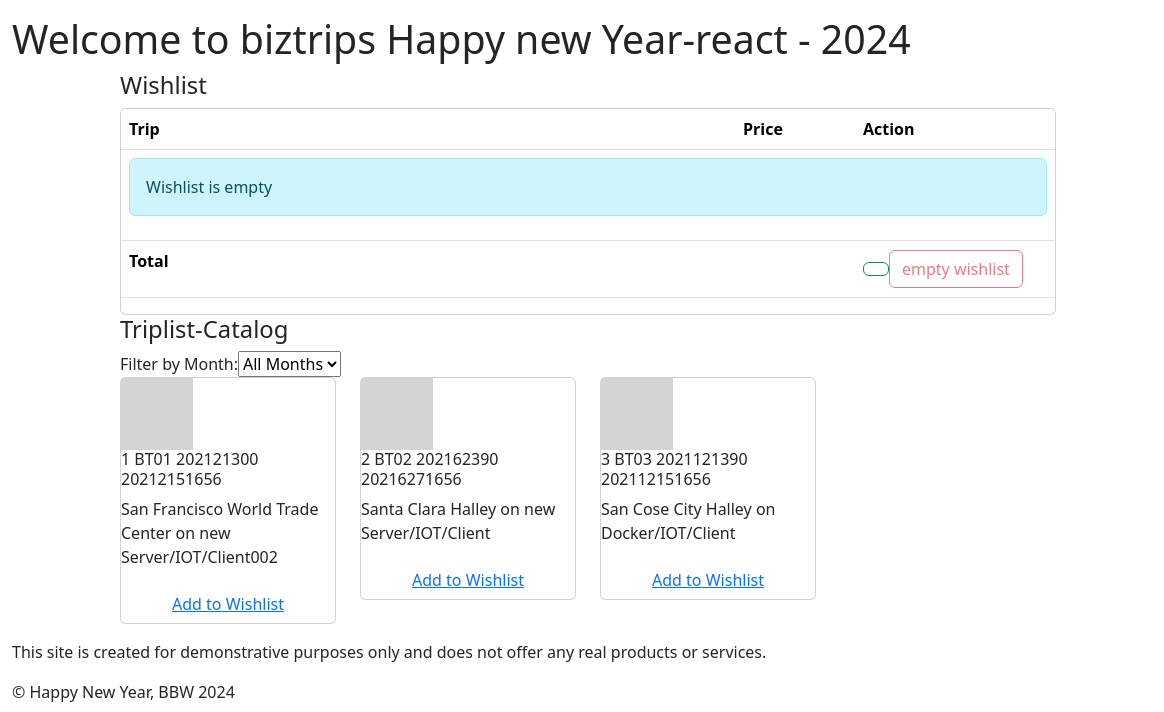
BizTrip E2E Tests › E2E-03: should clear all trips from wishlist
The width and height of the screenshot is (1164, 712).
(page scrolled)
expect the heading "Welcome to biztrips" is shown: met, box [12,12,911,66]
Click the button with class "btn-outline" below "BT01": (228, 604) [109,585,347,623]
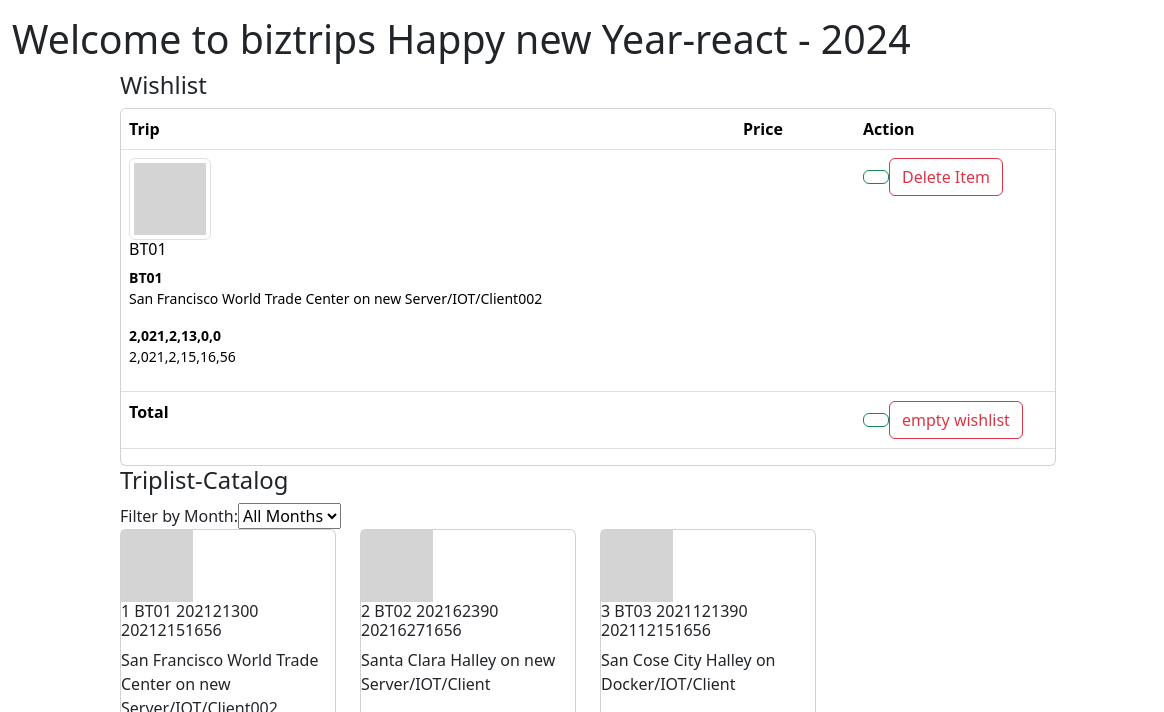
Scroll
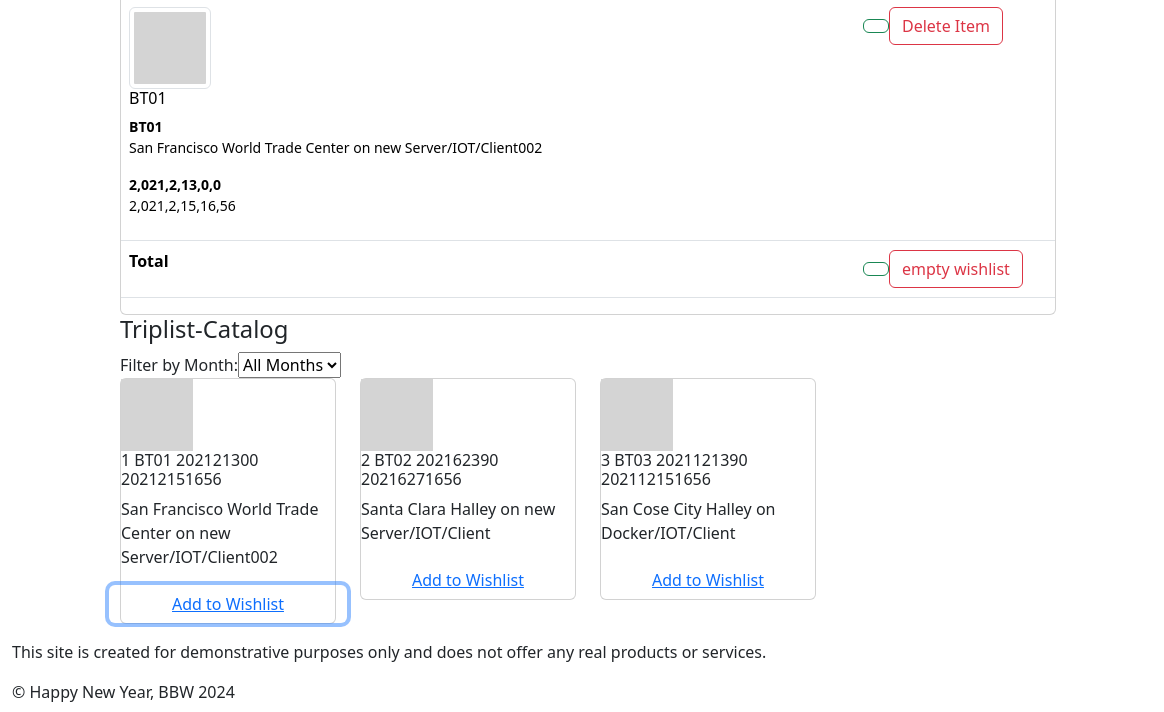
Click the button with class "btn-outline" below "27": (468, 580) [349,561,587,599]
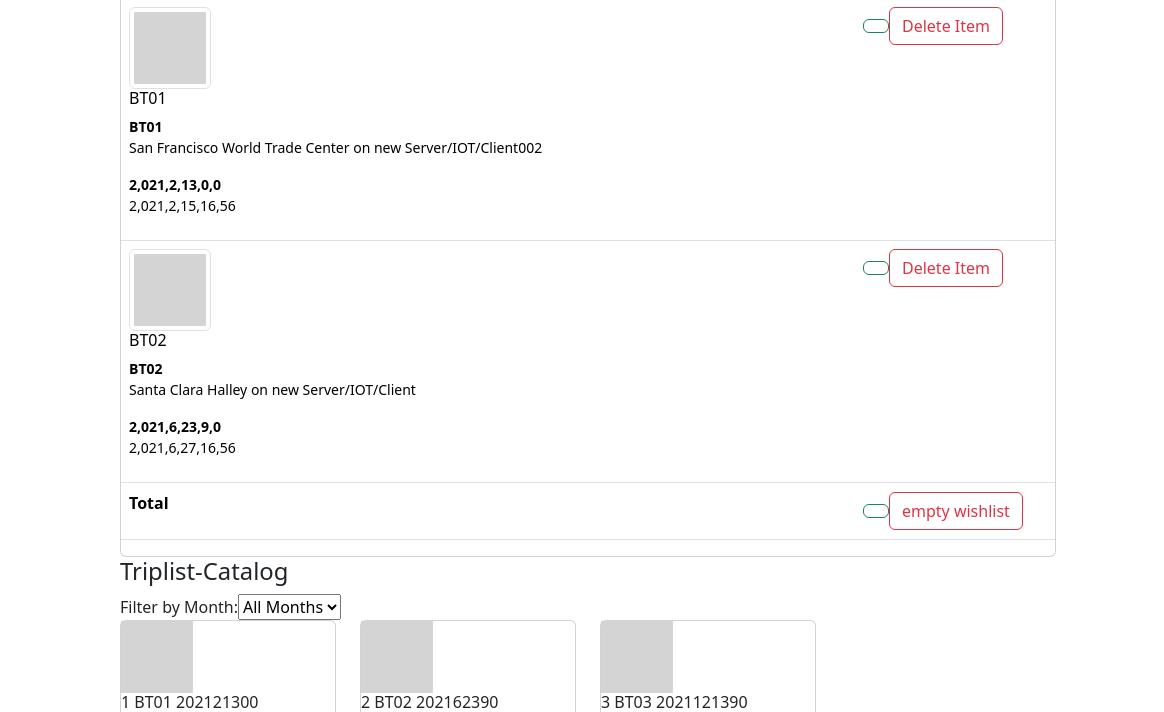
Scroll
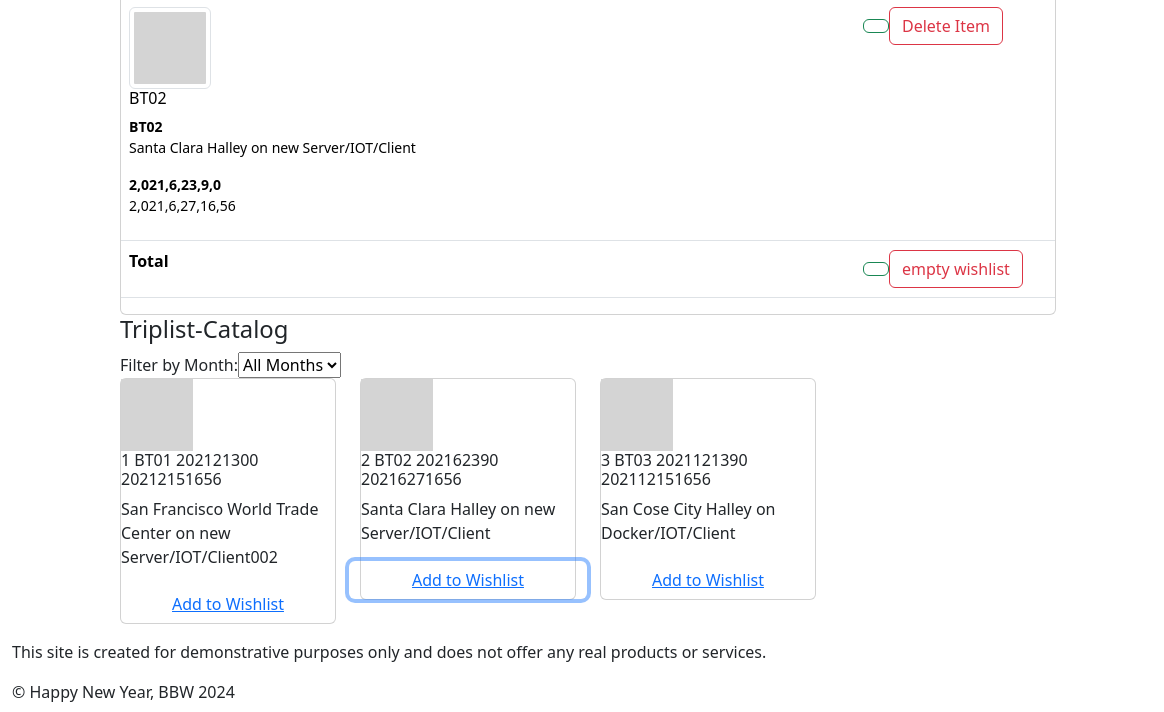
Click the button with class "btn-outline" below "BT03": (708, 580) [589,561,827,599]
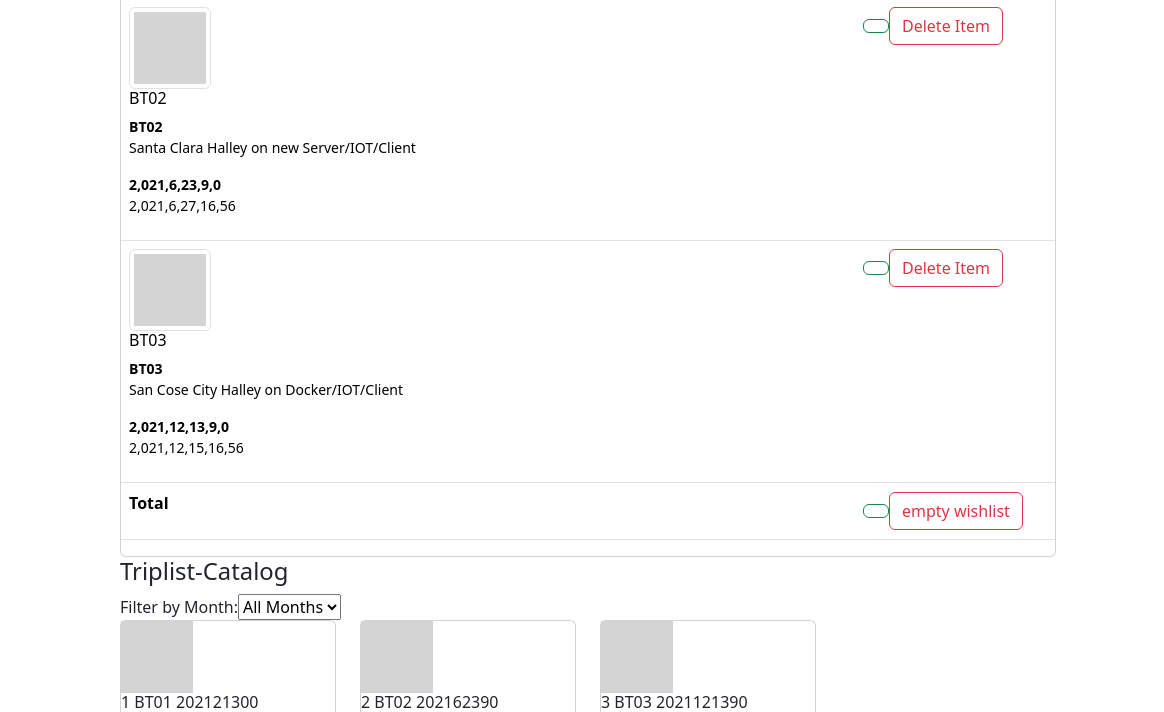
expect the text "empty wishlist" is enabled: met
expect the number of elements with class "media" is at least 1: met
Click the button "empty wishlist": (956, 511) [889,492,1023,530]
(page scrolled)
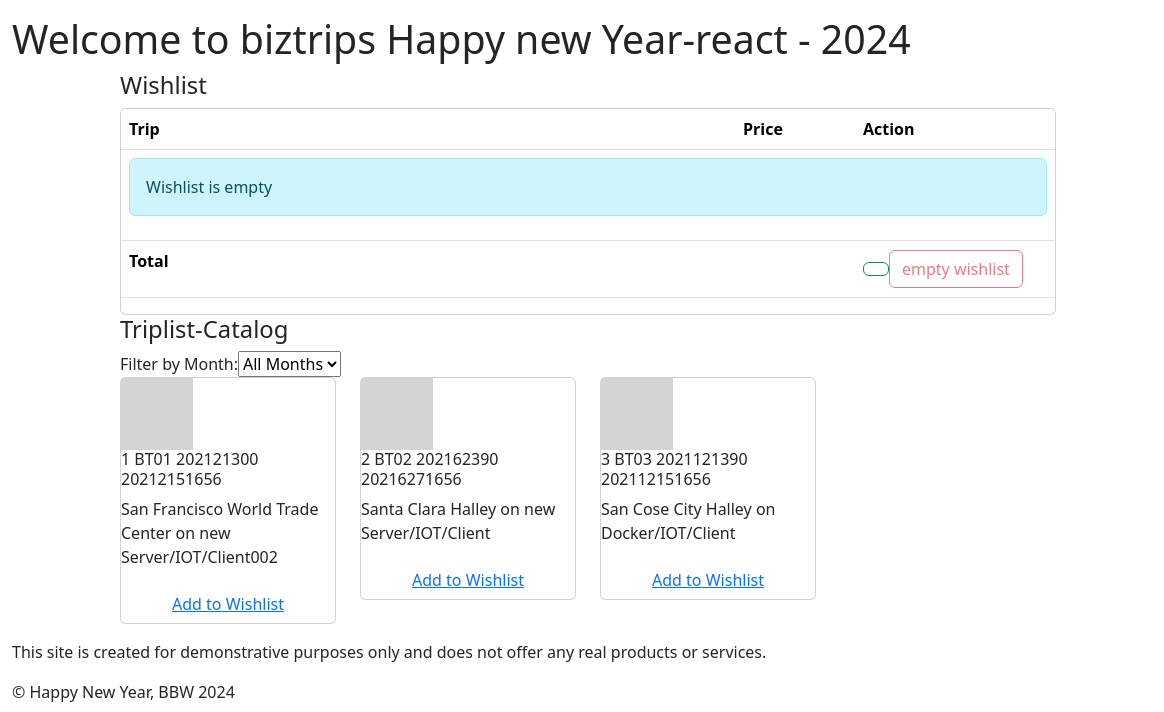
expect the text "Wishlist is empty" is shown: met, box [129,158,1047,216]
